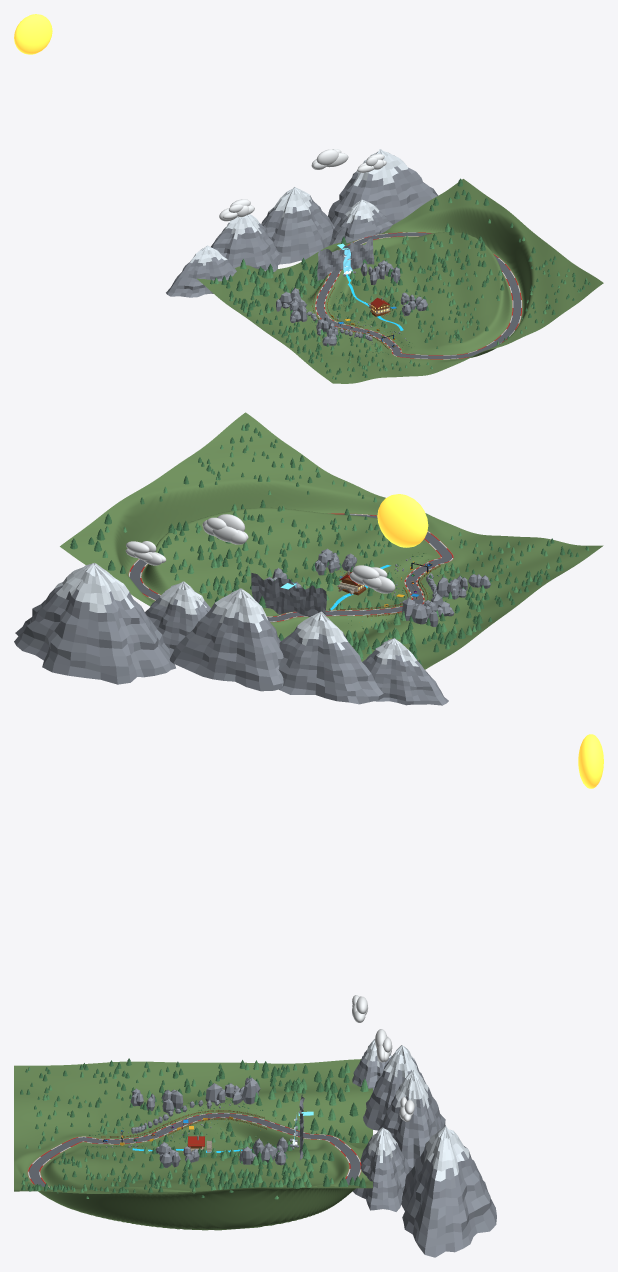
File: blockkart_alpine_golden_scene_v13.glb
The picture shows the model from 3 angles, top to bottom: view 1: azimuth 30°, elevation 25°; view 2: azimuth 150°, elevation 25°; view 3: azimuth 270°, elevation 25°; orthographic projection. The views are drawn at different scales.
Visible parts, largest first — view 1: Golden valley terrain, Layered alpine peak 5, Layered alpine peak 3, Golden S curve road, Layered alpine peak 2, Layered alpine peak 1, Layered alpine peak 4, Waterfall cliff wall, Low geometry alpine sun; view 2: Golden valley terrain, Layered alpine peak 5, Layered alpine peak 3, Layered alpine peak 2, Layered alpine peak 1, Layered alpine peak 4, Golden S curve road, Low geometry alpine sun, Waterfall cliff wall; view 3: Golden valley terrain, Layered alpine peak 5, Layered alpine peak 3, Golden S curve road, Layered alpine peak 4, Layered alpine peak 2, Low geometry alpine sun, Layered alpine peak 1.
Part boxes in pixels (bbox=[...]): Golden valley terrain: bbox=[197, 179, 603, 383]; Layered alpine peak 5: bbox=[328, 149, 438, 226]; Layered alpine peak 3: bbox=[261, 187, 334, 264]; Golden S curve road: bbox=[314, 232, 522, 359]; Layered alpine peak 2: bbox=[211, 214, 280, 271]; Layered alpine peak 1: bbox=[166, 245, 236, 297]; Layered alpine peak 4: bbox=[329, 199, 392, 245]; Waterfall cliff wall: bbox=[317, 238, 374, 280]; Low geometry alpine sun: bbox=[14, 14, 52, 54]; Golden valley terrain: bbox=[60, 412, 603, 669]; Layered alpine peak 5: bbox=[14, 563, 175, 684]; Layered alpine peak 3: bbox=[169, 588, 283, 691]; Layered alpine peak 2: bbox=[278, 611, 383, 704]; Layered alpine peak 1: bbox=[362, 638, 448, 705]; Layered alpine peak 4: bbox=[145, 581, 210, 654]; Golden S curve road: bbox=[128, 513, 453, 622]; Low geometry alpine sun: bbox=[377, 494, 428, 547]; Waterfall cliff wall: bbox=[251, 573, 326, 616]; Golden valley terrain: bbox=[14, 1059, 372, 1230]; Layered alpine peak 5: bbox=[401, 1126, 496, 1257]; Layered alpine peak 3: bbox=[378, 1070, 445, 1170]; Golden S curve road: bbox=[27, 1112, 361, 1187]; Layered alpine peak 4: bbox=[353, 1127, 409, 1211]; Layered alpine peak 2: bbox=[363, 1045, 425, 1130]; Low geometry alpine sun: bbox=[578, 734, 603, 788]; Layered alpine peak 1: bbox=[352, 1039, 391, 1090].
Size of what is drawn, in the model's own units: 681 by 412 by 731.
